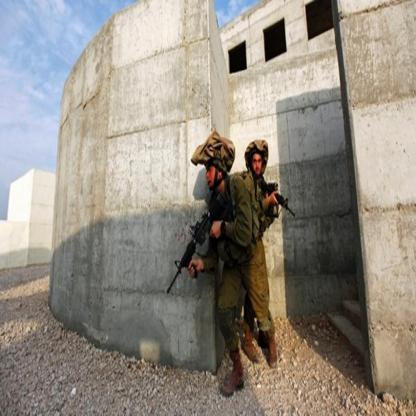face: (206, 161, 220, 190), (253, 154, 263, 175)
